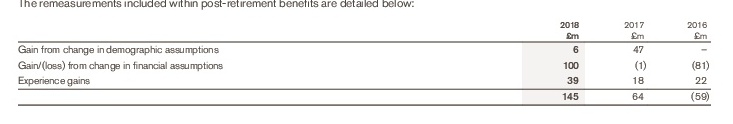table: (0, 0, 733, 124)
